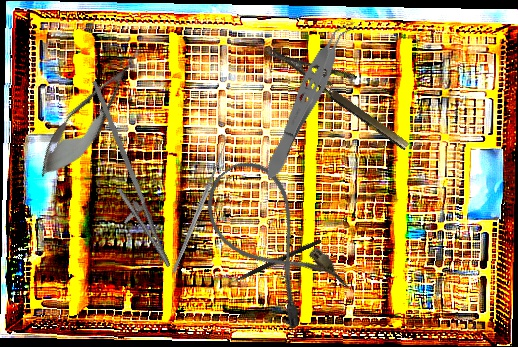Cannula: (190, 148, 354, 334)
Hook Surgical: (123, 132, 273, 275), (218, 237, 322, 292)
Micro Scissor: (27, 36, 157, 190)
Needle Holder: (57, 80, 193, 275), (267, 25, 423, 153)
Tissue Forceps: (257, 12, 361, 184)
